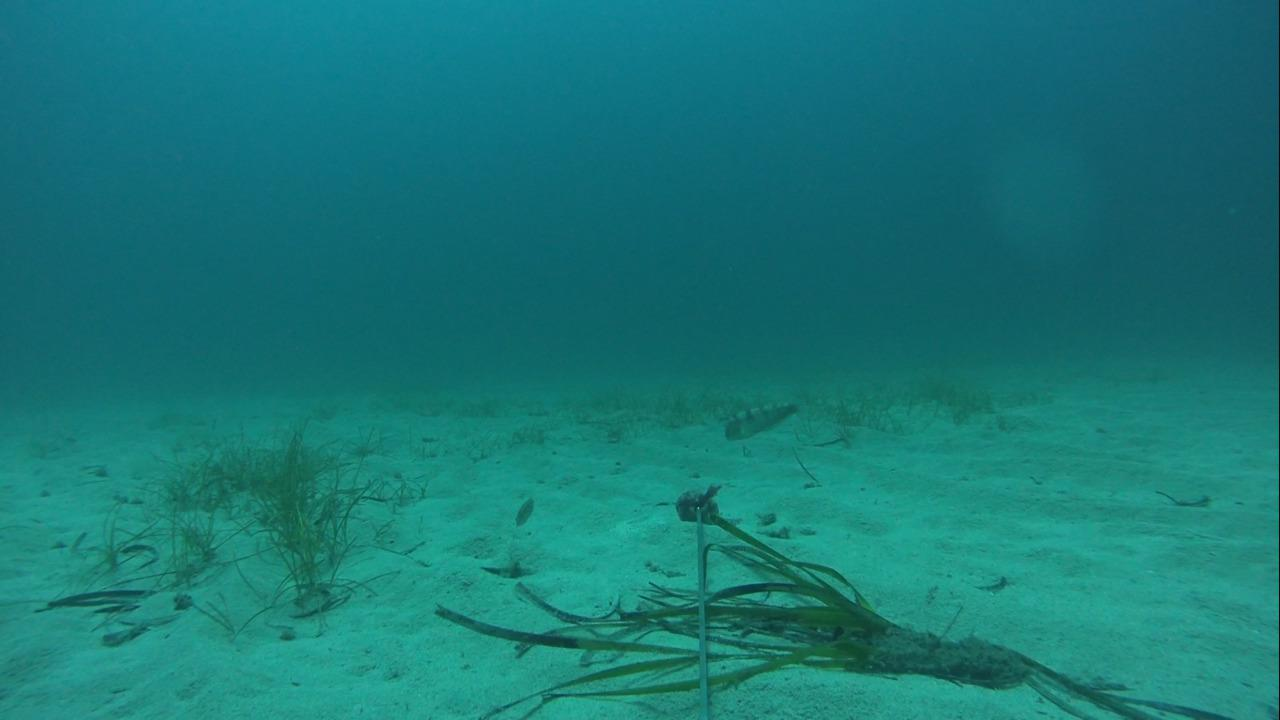raor: (719, 398, 806, 443), (511, 494, 536, 529)
